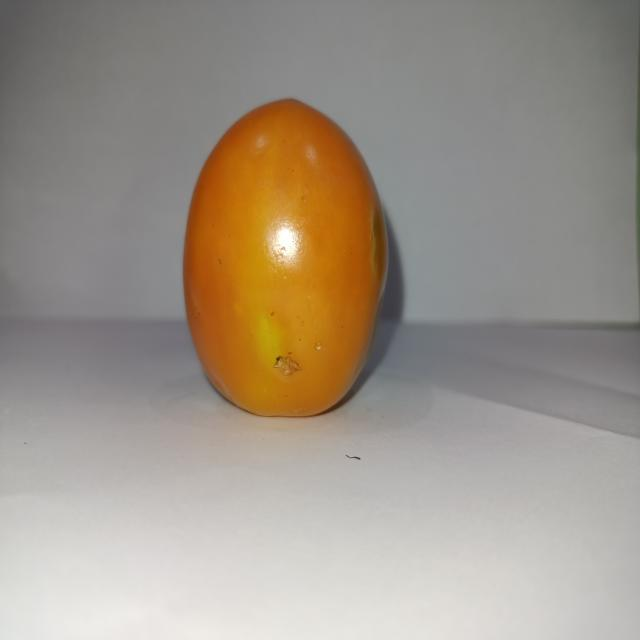Red: (181, 96, 390, 418)
